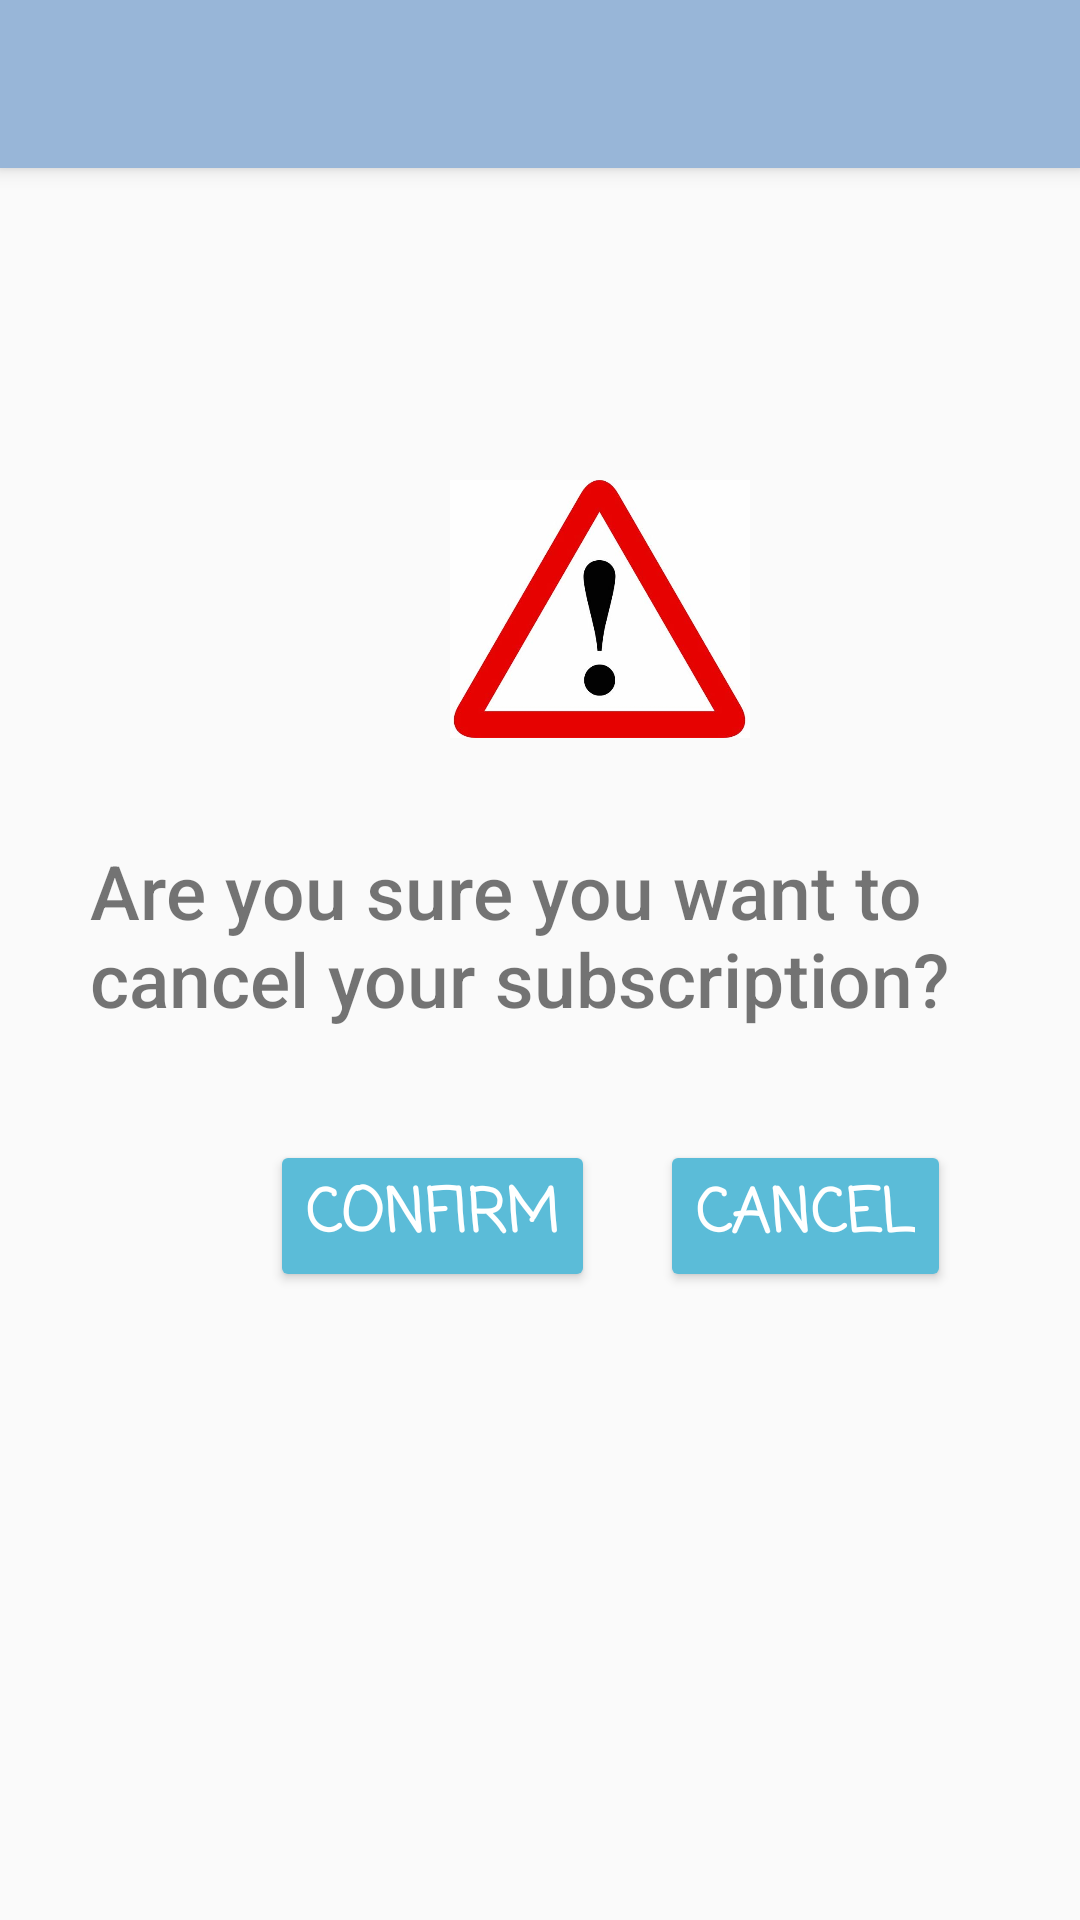

Point at icon controls on the screen. Image size 1080 × 1920, points as (x,y).
warning: (600,609)
